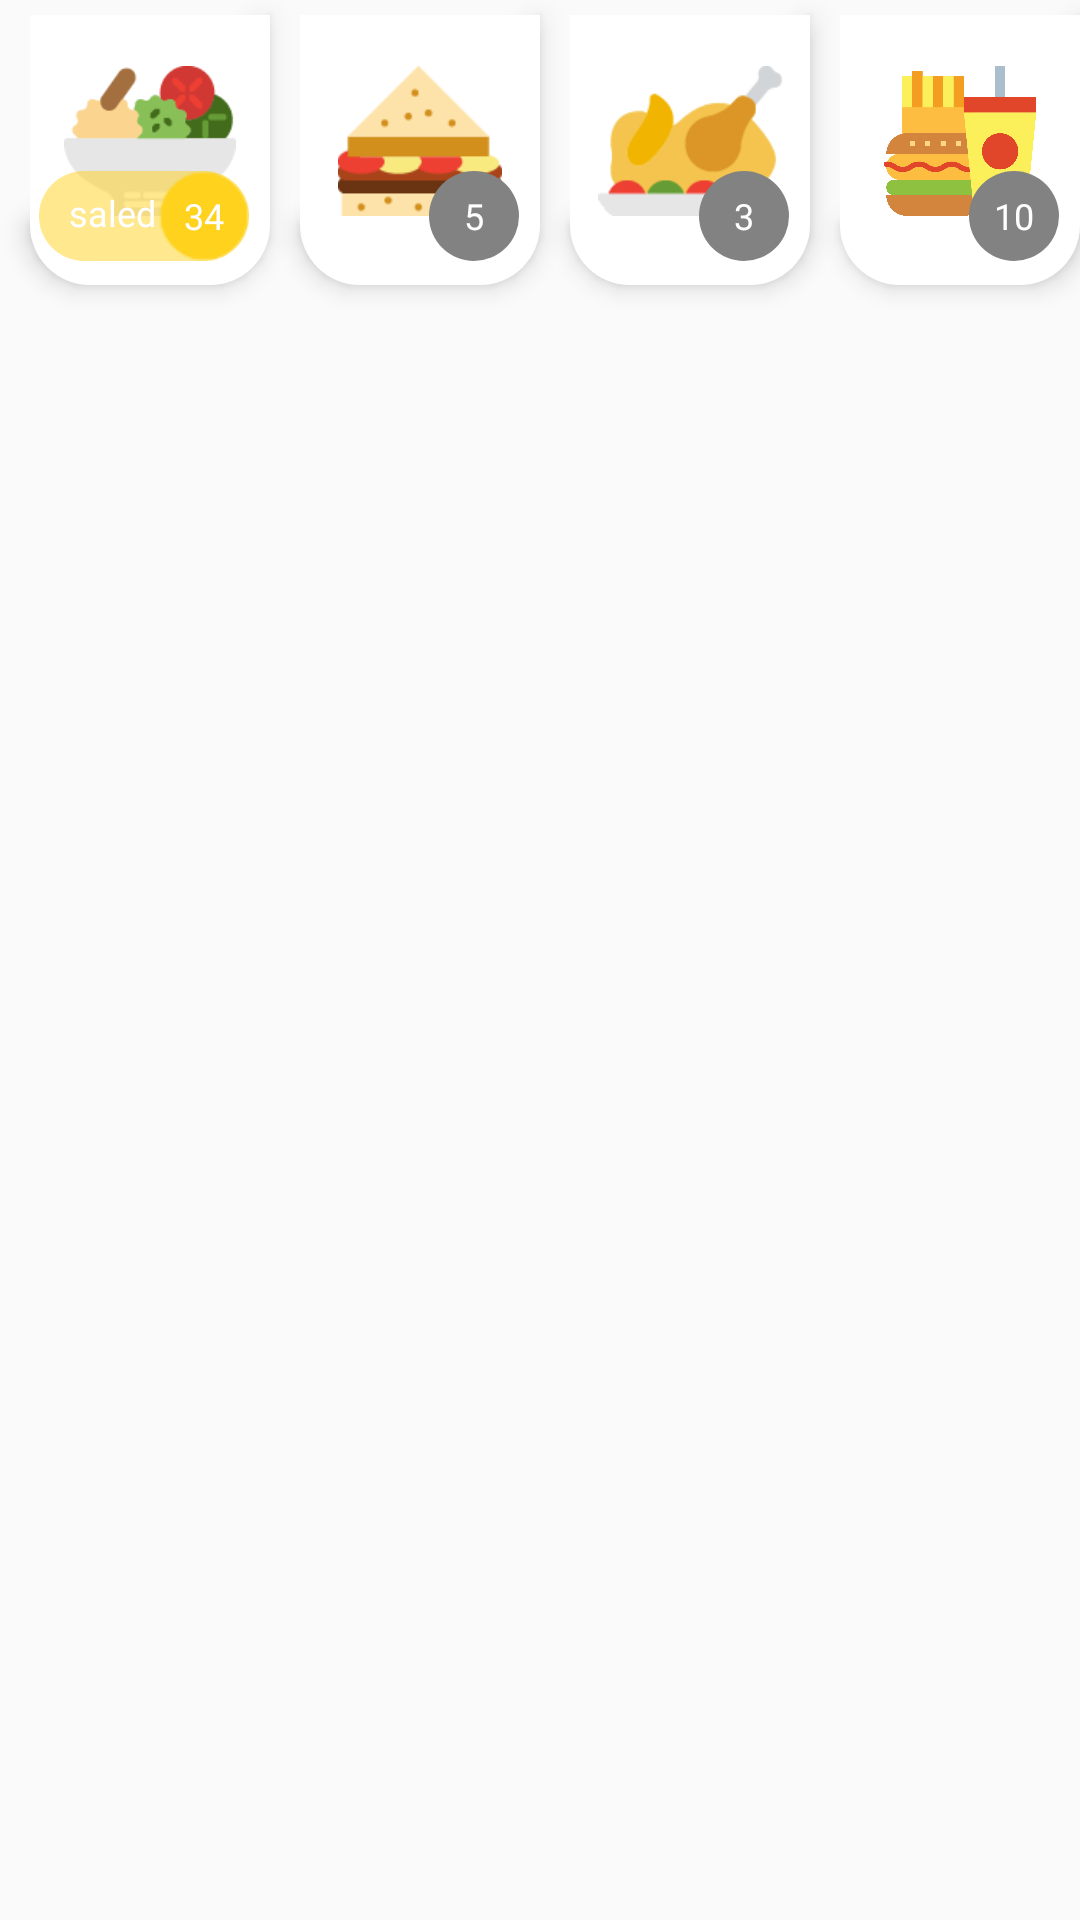

Screen size 1080w x 1920h. Icon name, then its box in pixels as (x1, y1, x2, y2):
fast food: (884, 66, 1059, 216)
sandwich: (338, 66, 519, 216)
turkey: (598, 66, 789, 216)
